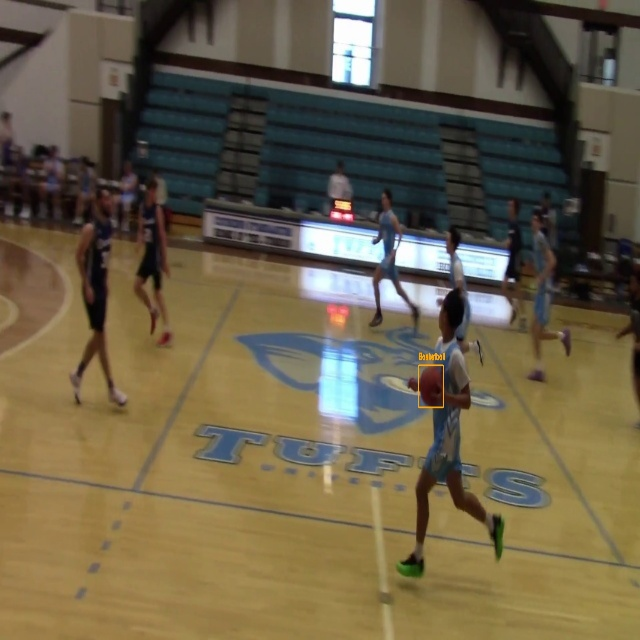Basketball: (419, 365, 443, 407)
